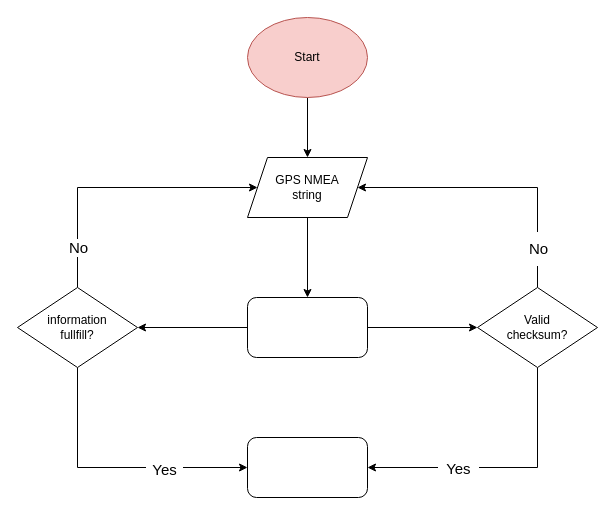
Some shapes in this 615 by 515 pixel diagram are drawn without their labels. The shapes that lost their labels are listed below. From the top down, each one's box as (x1, y1, x2, y2) in pixels, then its label:
(246, 296, 368, 358): STM32 receive the location info
(246, 436, 368, 498): Separate the string into variables
